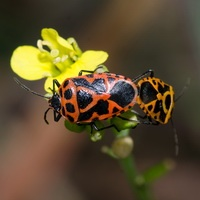insect: (14, 65, 179, 157)
